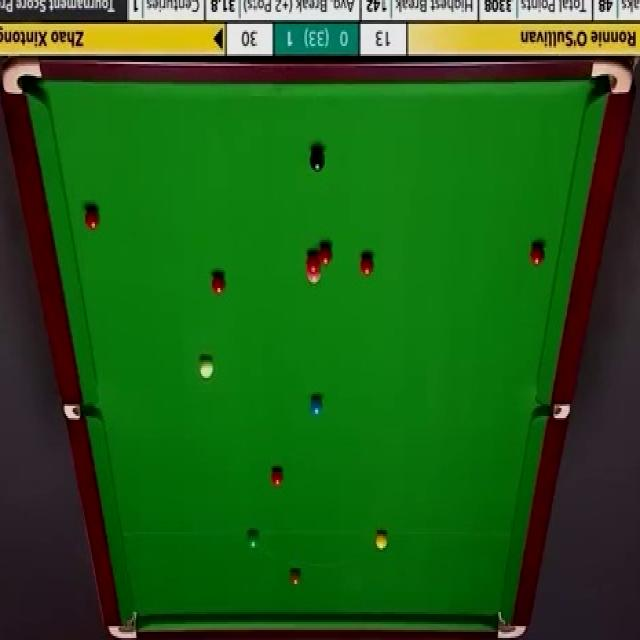black-ball: (308, 148, 324, 173)
blue-ball: (310, 396, 325, 418)
brown-ball: (289, 568, 301, 588)
green-ball: (247, 530, 260, 551)
pink-ball: (307, 270, 323, 284)
red-ball: (358, 252, 376, 279), (84, 206, 100, 232), (530, 243, 546, 267), (318, 242, 334, 265), (211, 273, 226, 296), (306, 252, 322, 273), (270, 467, 285, 488)
white-ball: (198, 355, 215, 381)
yellow-ball: (375, 531, 388, 552)
